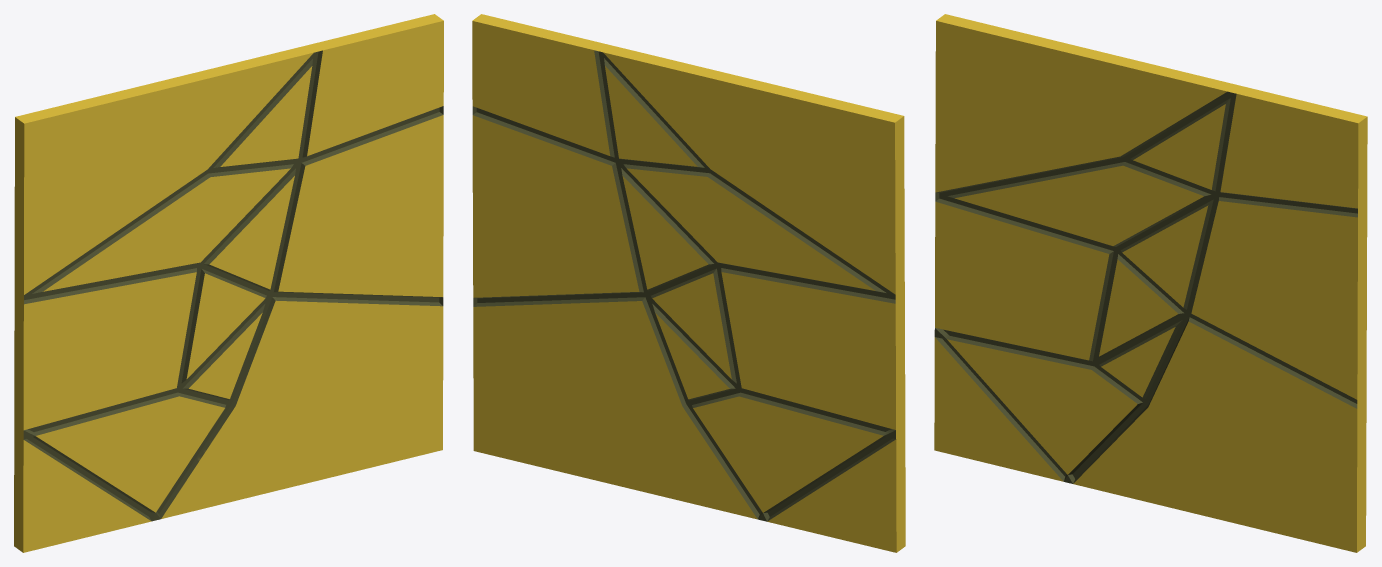
File: break.fbx
3 views of the same model, side by side, from view 1: azimuth 30°, elevation 25°; view 2: azimuth 150°, elevation 25°; view 3: azimuth 330°, elevation 25° (orthographic).
Parts seen in each view (by area): view 1: pasted__break4; view 2: pasted__break4; view 3: pasted__break4.
Boxes of the visible parts, x1=… form: pasted__break4: x1=14, y1=14, x2=443, y2=552; pasted__break4: x1=472, y1=14, x2=905, y2=552; pasted__break4: x1=934, y1=14, x2=1367, y2=552.
Bounding box in the file's own units: 63.13 × 61.36 × 2.7.
Materials: 1 (1 with a texture image).
